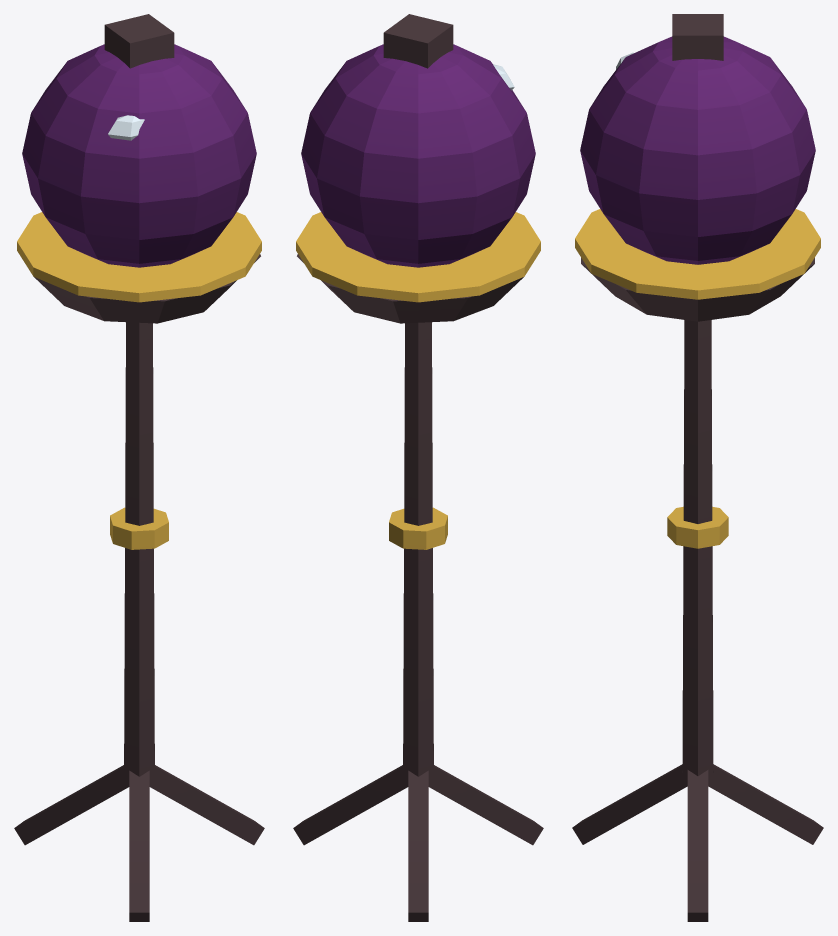
The model's file is orb_standing_red.glb.
The picture shows the model from 3 angles, left to right: view 1: azimuth 30°, elevation 25°; view 2: azimuth 150°, elevation 25°; view 3: azimuth 270°, elevation 25°; orthographic projection.
Visible parts, largest first — view 1: orb_standing_red; view 2: orb_standing_red; view 3: orb_standing_red.
Boxes of the visible parts, x1,y1,x2,y2 form: orb_standing_red: (14, 14, 264, 921); orb_standing_red: (293, 14, 543, 921); orb_standing_red: (572, 14, 823, 921).
Bounding box in the file's own units: 0.5122 × 1.82 × 0.4915.
